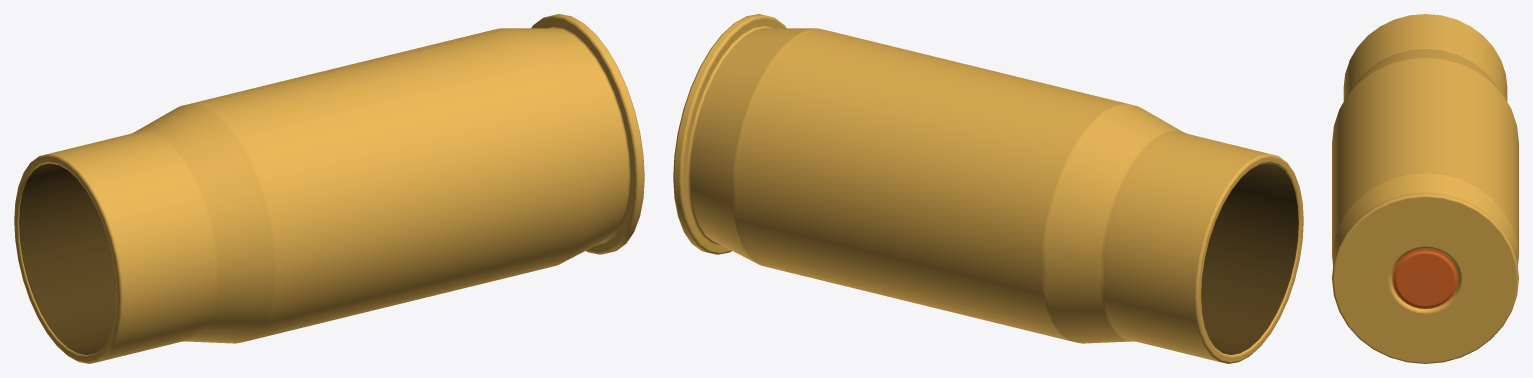
Rendered from Casing.gltf.
3 renders of one model, left to right at view 1: azimuth 30°, elevation 25°; view 2: azimuth 150°, elevation 25°; view 3: azimuth 270°, elevation 25°, orthographic. The views are drawn at different scales.
Parts seen in each view (by area): view 1: Casing_LOD0; view 2: Casing_LOD0; view 3: Casing_LOD0.
Boxes of the visible parts, x1,y1,x2,y2 form: Casing_LOD0: [14, 14, 644, 363]; Casing_LOD0: [673, 14, 1303, 363]; Casing_LOD0: [1332, 14, 1518, 363].
Size of what is drawn, in the model's own units: 0.0552 by 0.0226 by 0.0226.
